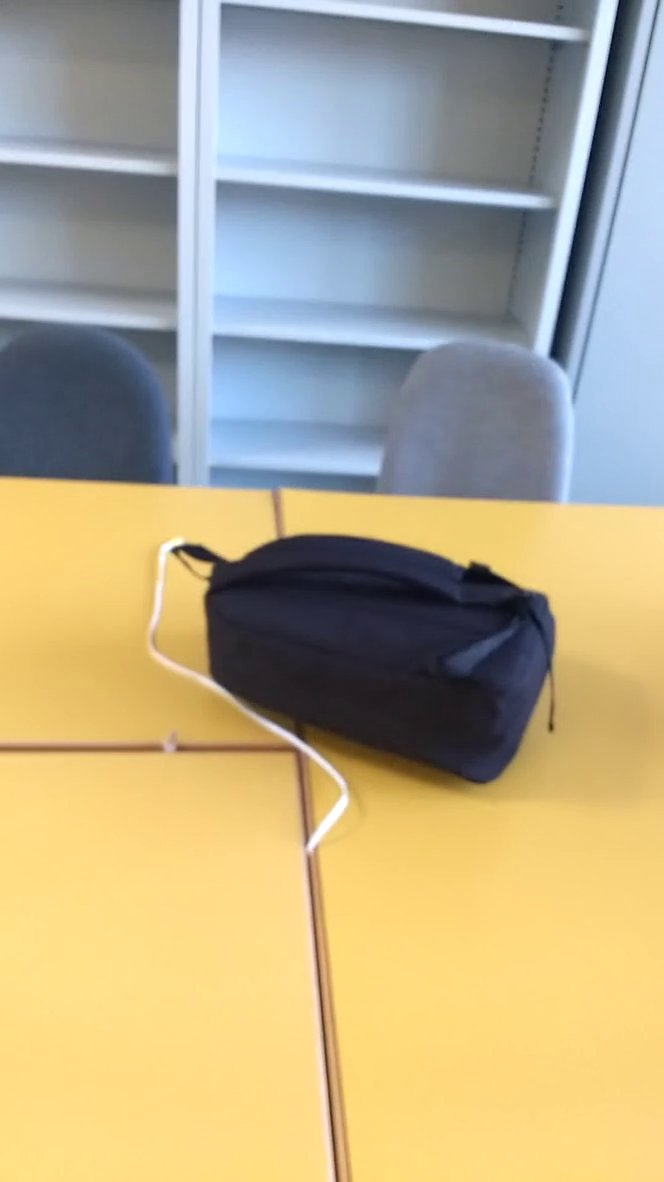bag: (166, 520, 578, 803)
chair: (374, 329, 592, 519), (1, 304, 190, 498)
